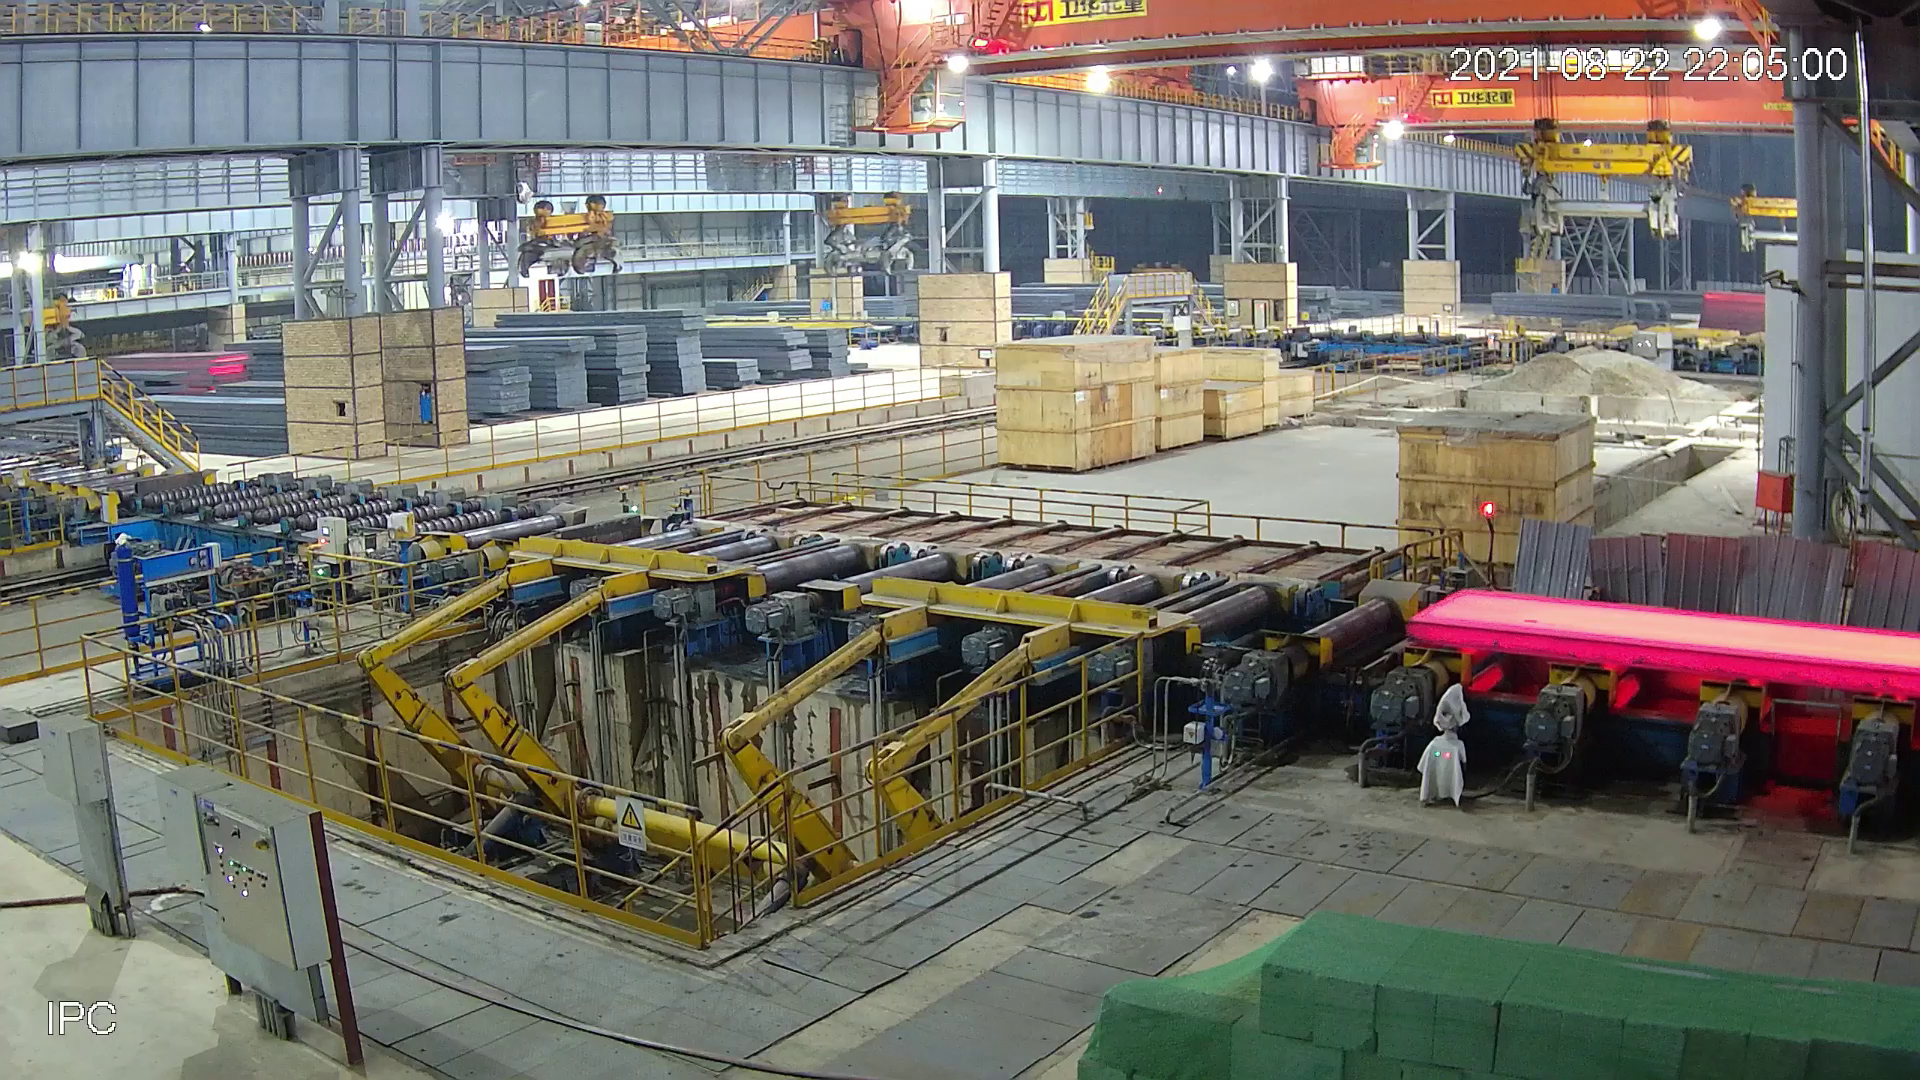slab: (1403, 582, 1920, 703)
